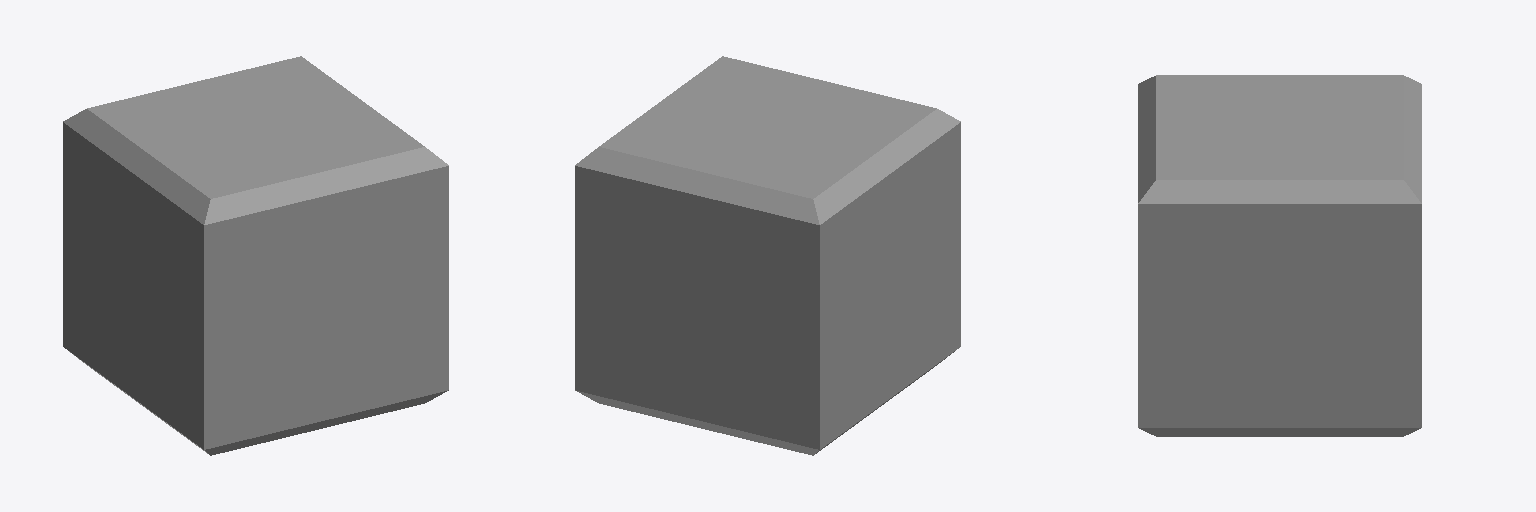
File: blob.obj
3 views of the same model, side by side, from view 1: azimuth 30°, elevation 25°; view 2: azimuth 150°, elevation 25°; view 3: azimuth 270°, elevation 25° (orthographic).
Visible parts, largest first — view 1: Cube; view 2: Cube; view 3: Cube.
Part boxes in pixels (x1,y1,x2,y2): Cube: (63,56,448,455); Cube: (575,56,960,455); Cube: (1138,75,1421,436).
Bounding box in the file's own units: 2 × 2 × 2.